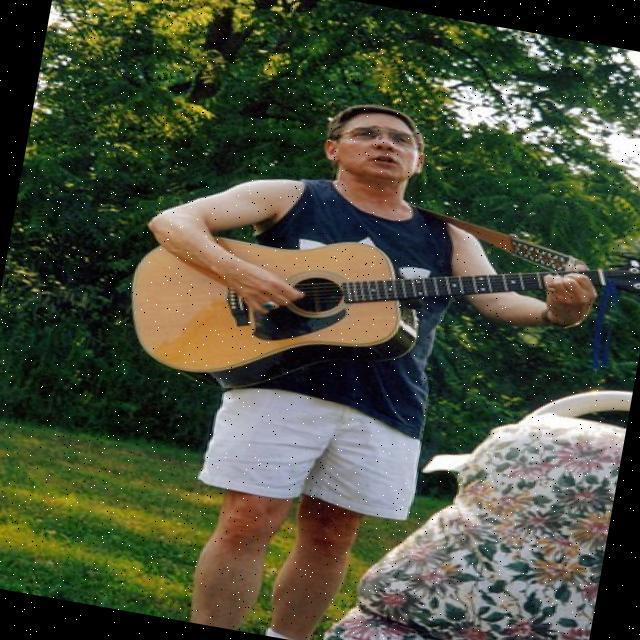acousticguitar: (133, 238, 543, 386)
